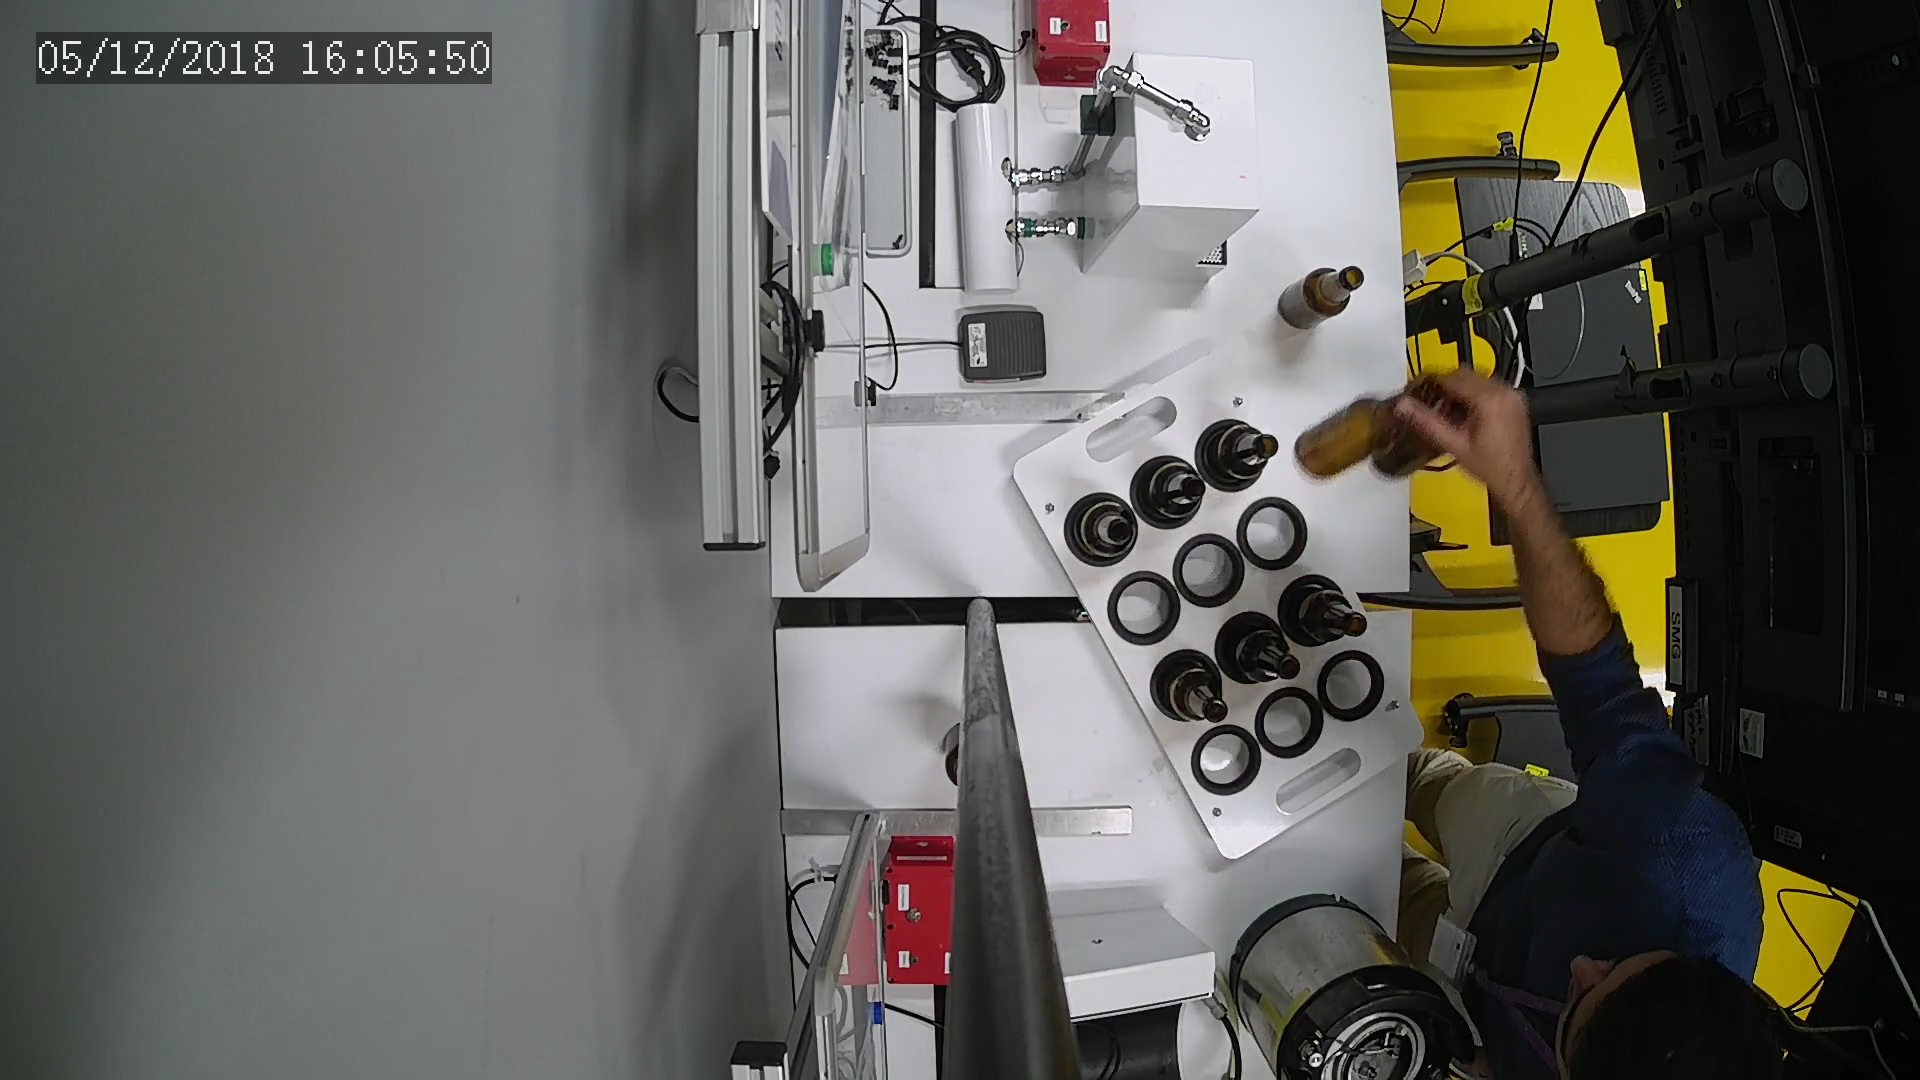filled_bottle: (1147, 649, 1232, 736), (1278, 578, 1370, 645), (1220, 613, 1303, 686), (1127, 458, 1211, 526), (1203, 419, 1280, 491), (1064, 493, 1141, 564)
trolley: (1010, 334, 1431, 865)
unfilled_bottle: (1274, 262, 1364, 330)
